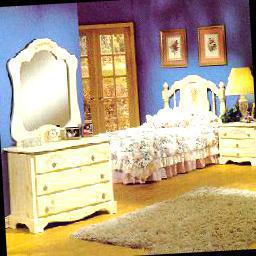Armario: (31, 143, 117, 223)
